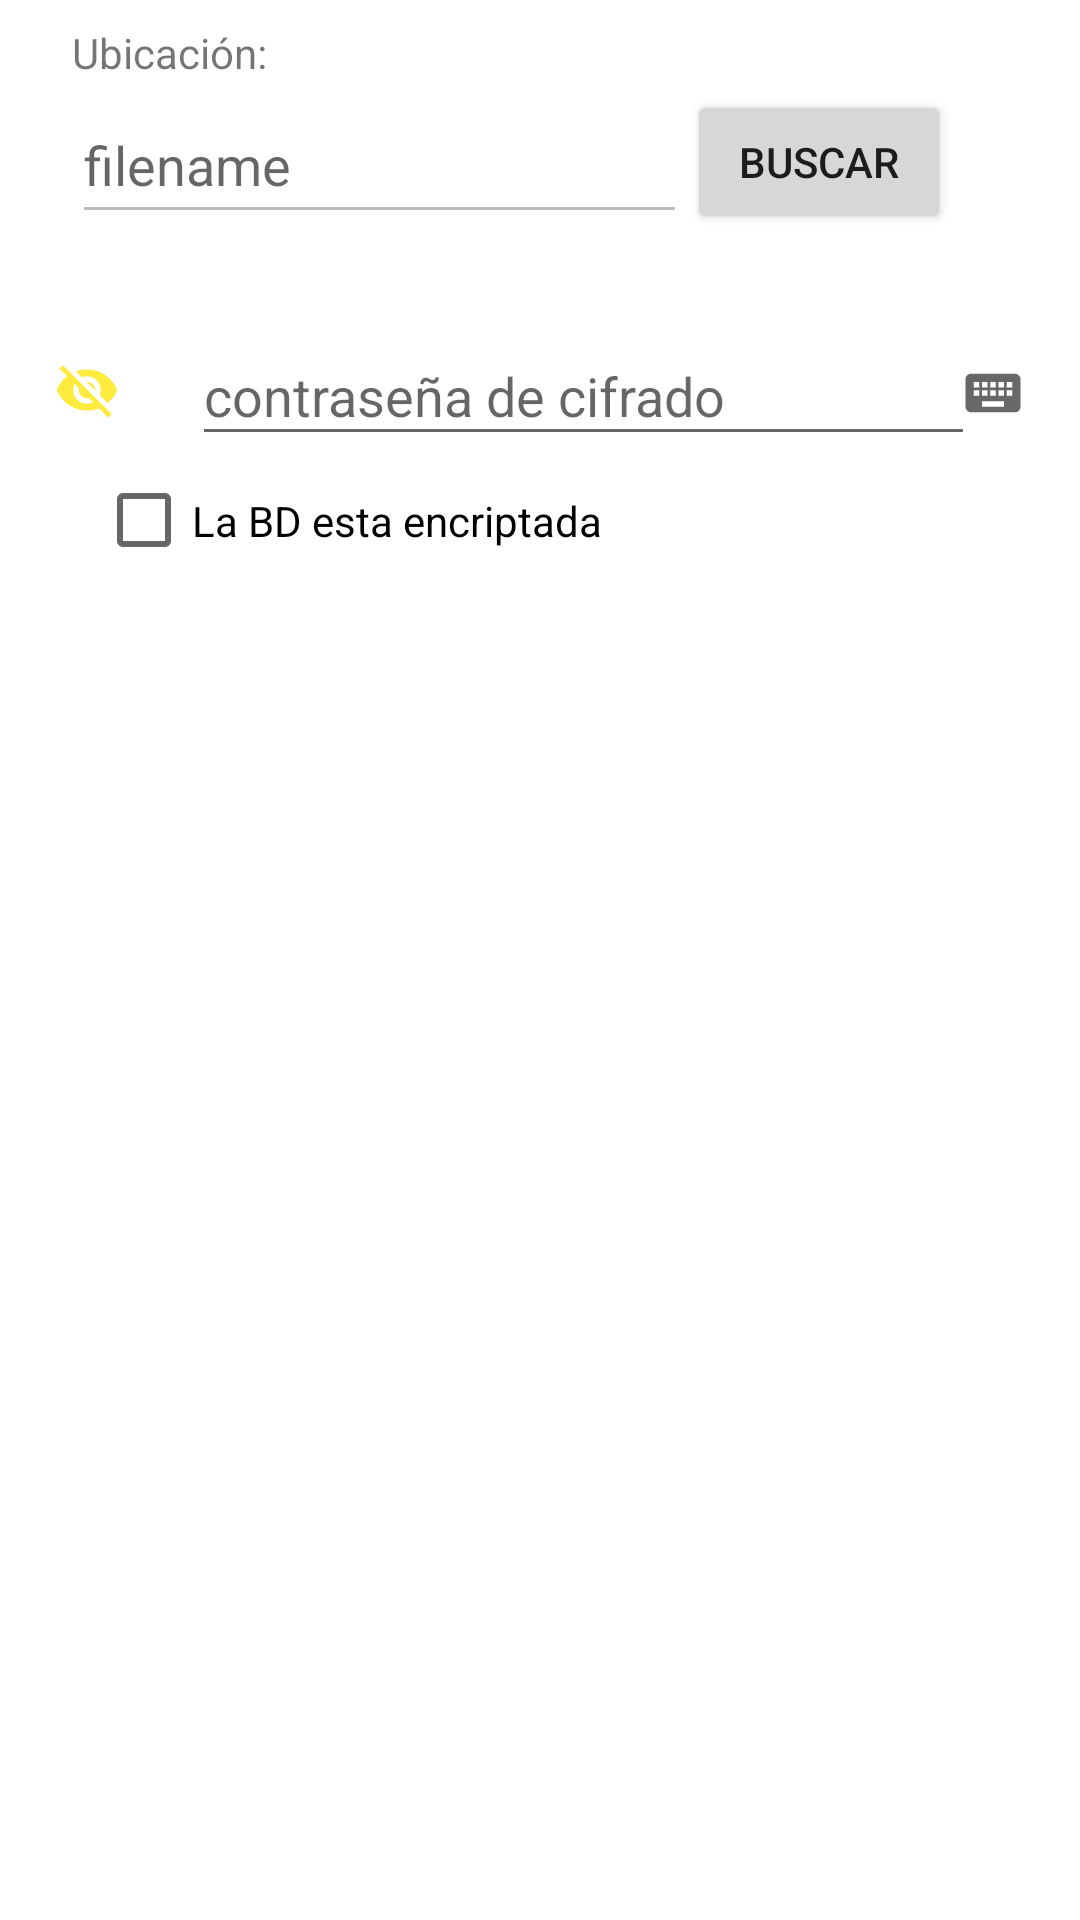

Locate icon controls on the screen. Image size 1080px x 1920px, boxes as (x1, y1, x2, y2).
keyboard: (965, 373, 1021, 413)
noshowpass: (57, 365, 117, 418)
